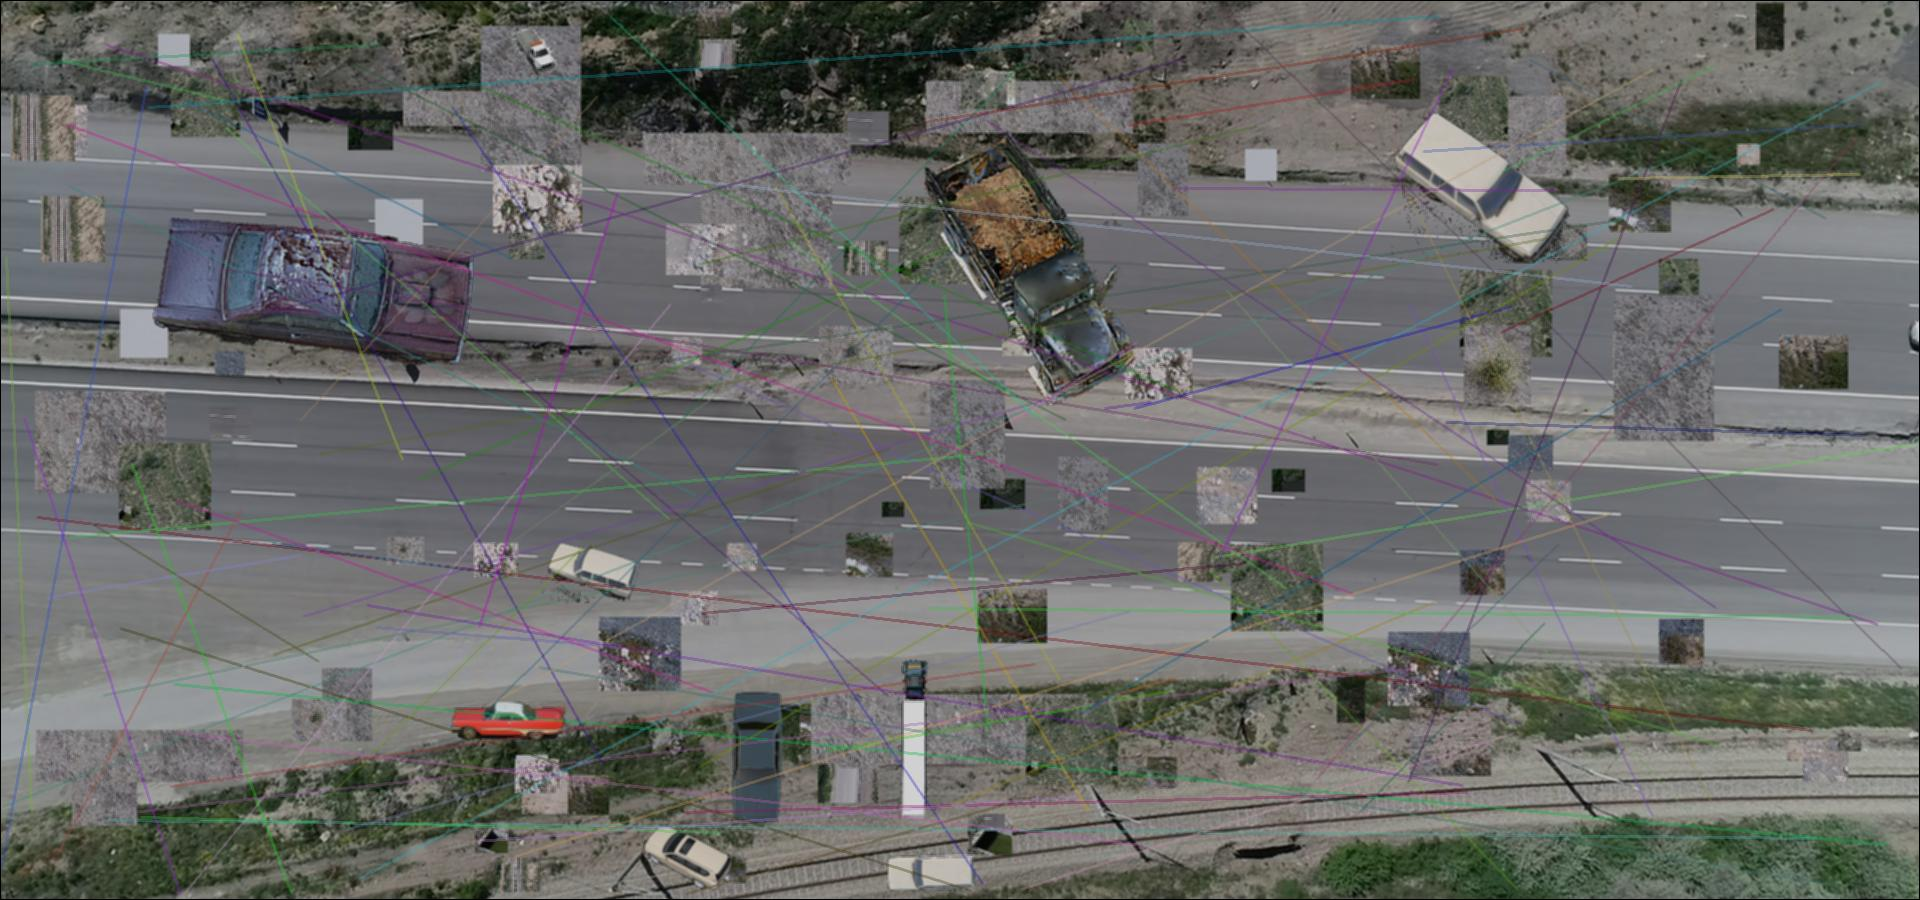arac: (920, 130, 1135, 405), (148, 204, 478, 376), (1390, 114, 1570, 263), (729, 691, 785, 825), (640, 820, 733, 890), (895, 659, 934, 820), (541, 541, 639, 602), (451, 702, 569, 742), (884, 849, 977, 893), (511, 24, 560, 73)
